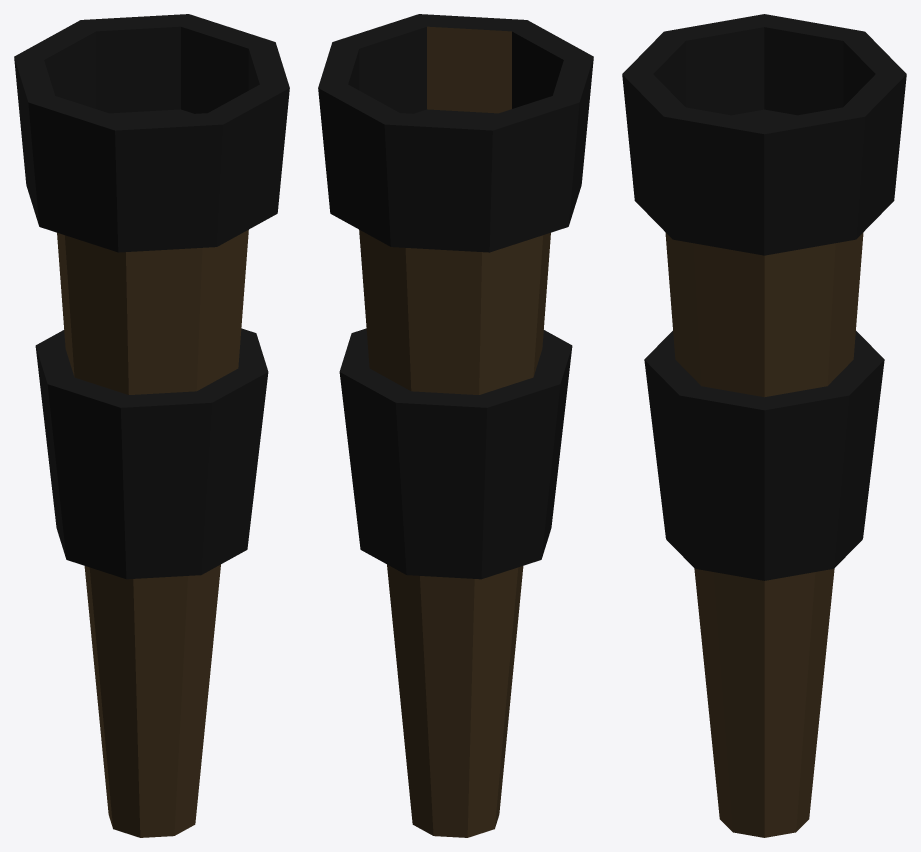
File: torch.glb
3 views of the same model, side by side, from view 1: azimuth 30°, elevation 25°; view 2: azimuth 150°, elevation 25°; view 3: azimuth 270°, elevation 25° (orthographic).
Parts seen in each view (by area): view 1: torch; view 2: torch; view 3: torch.
Part boxes in pixels (left/top/right/bottom): torch: left=14, top=14, right=289, bottom=837; torch: left=318, top=14, right=593, bottom=837; torch: left=622, top=14, right=906, bottom=837.
Bounding box in the file's own units: 0.0519 × 0.1499 × 0.0519.
